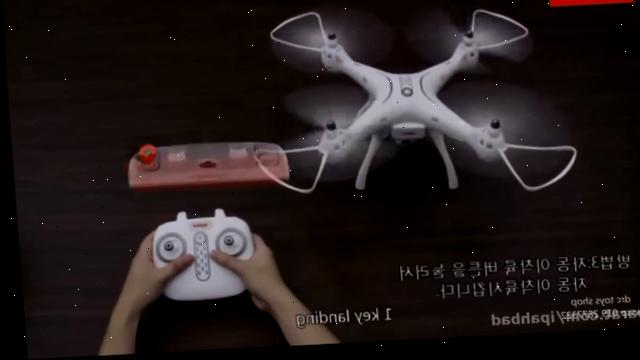drone: (244, 0, 578, 210)
